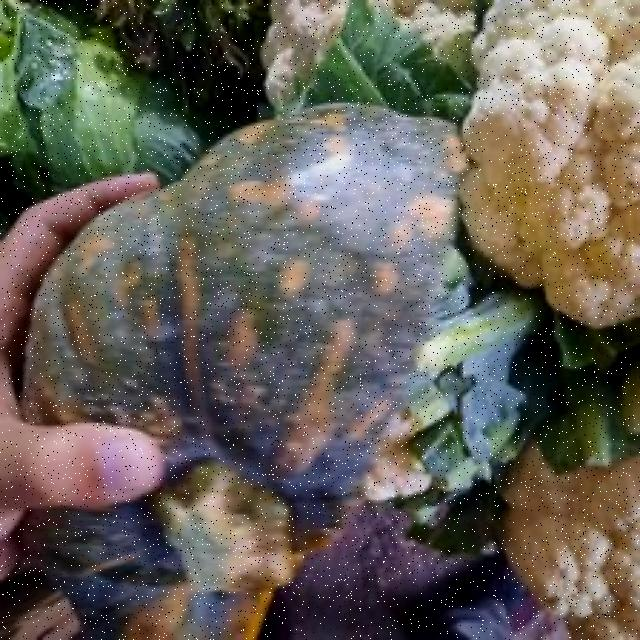Cauliflower: (453, 14, 640, 431), (494, 370, 640, 637)
Pumpkin: (27, 87, 422, 640)
